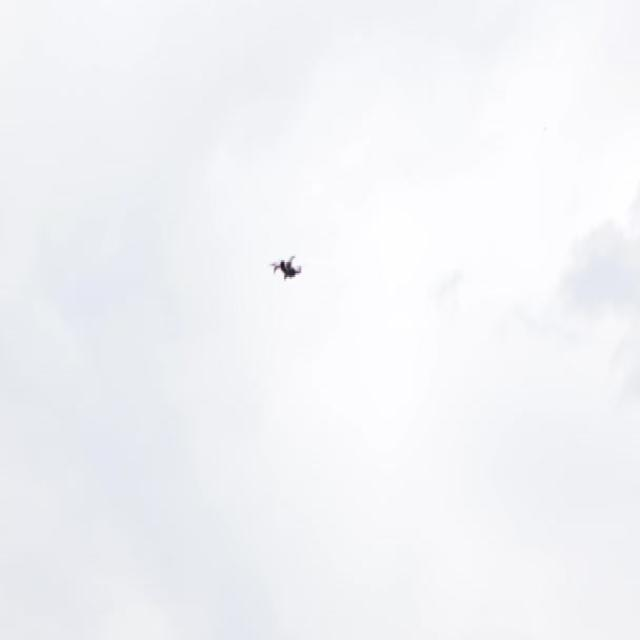drone: (270, 254, 306, 286)
